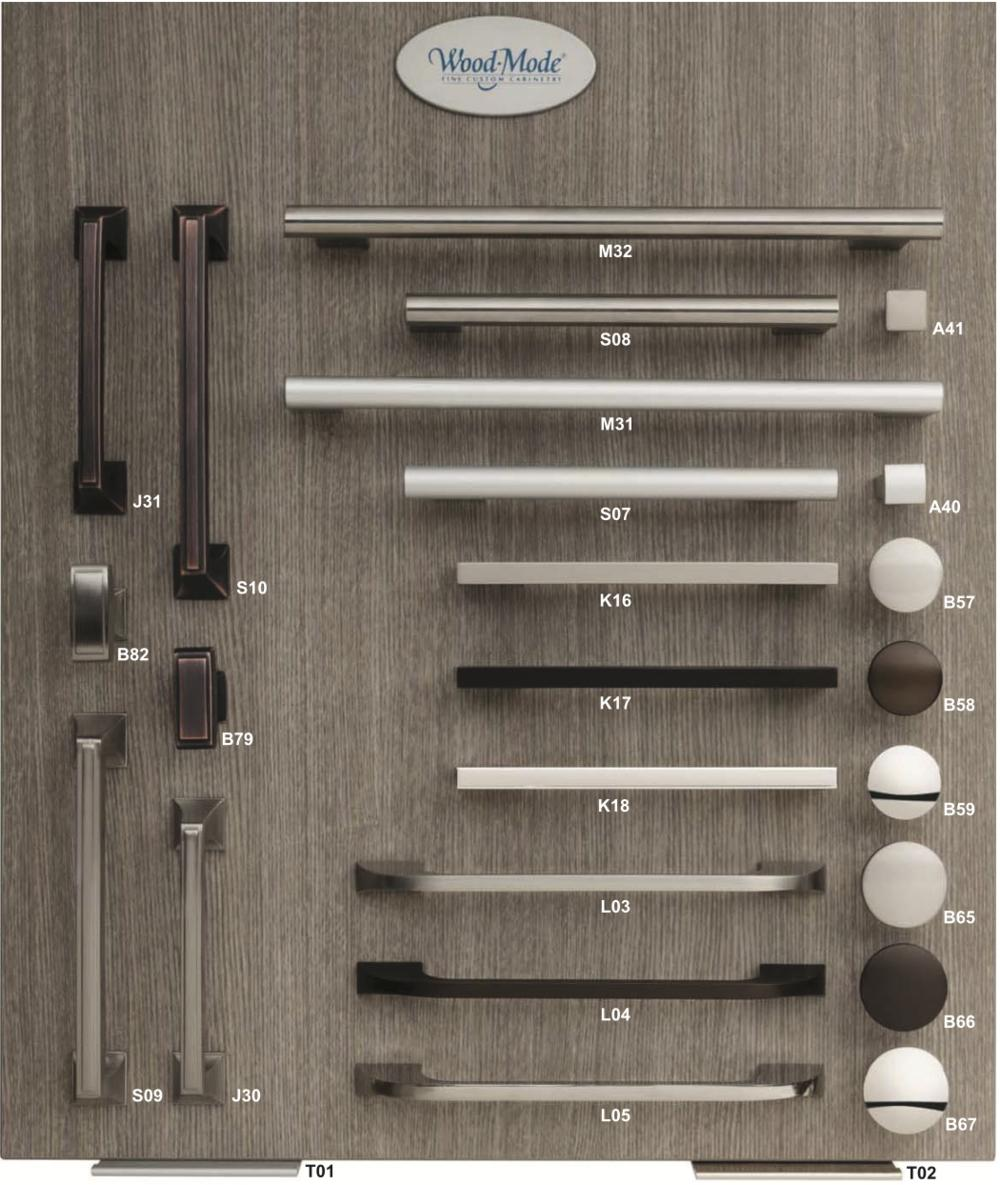handle: (275, 353, 946, 440), (280, 182, 954, 266), (358, 946, 831, 1037), (354, 839, 834, 920), (439, 524, 845, 618), (450, 748, 834, 842), (404, 278, 845, 359), (394, 446, 842, 525), (352, 1050, 816, 1124), (447, 642, 843, 728), (168, 170, 234, 612), (54, 193, 137, 520), (58, 719, 121, 1116), (164, 816, 231, 1112), (850, 831, 955, 945), (858, 1038, 955, 1142), (855, 942, 952, 1034), (862, 729, 946, 831), (860, 535, 955, 624), (167, 638, 233, 764), (865, 630, 950, 721), (62, 558, 124, 670), (868, 452, 944, 524), (878, 283, 934, 352)
